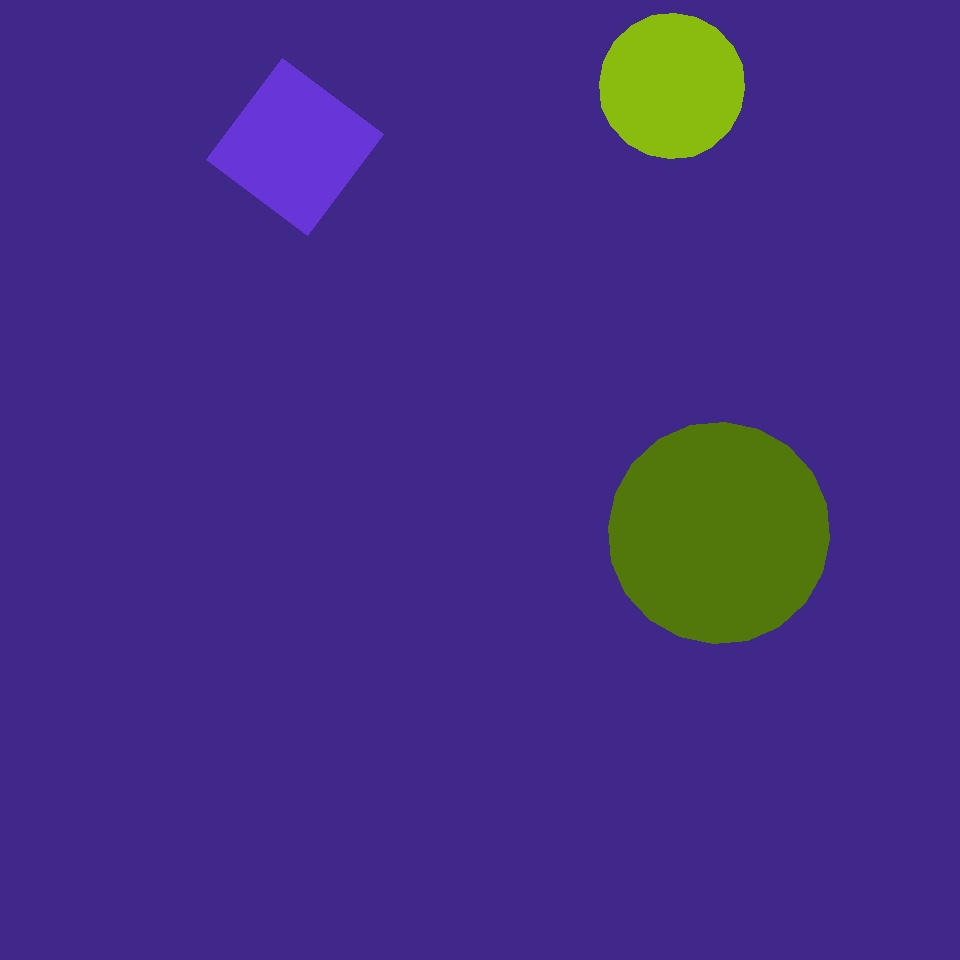square: (206, 59, 384, 236), (717, 70, 853, 206)
triangle: (527, 350, 859, 683), (135, 517, 452, 834), (608, 422, 830, 644), (30, 32, 181, 183), (599, 14, 744, 158)
